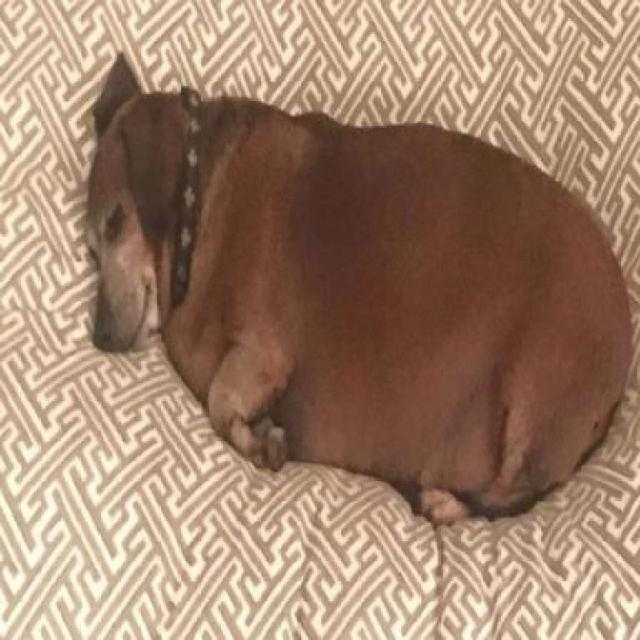Dog: (80, 52, 635, 532)
